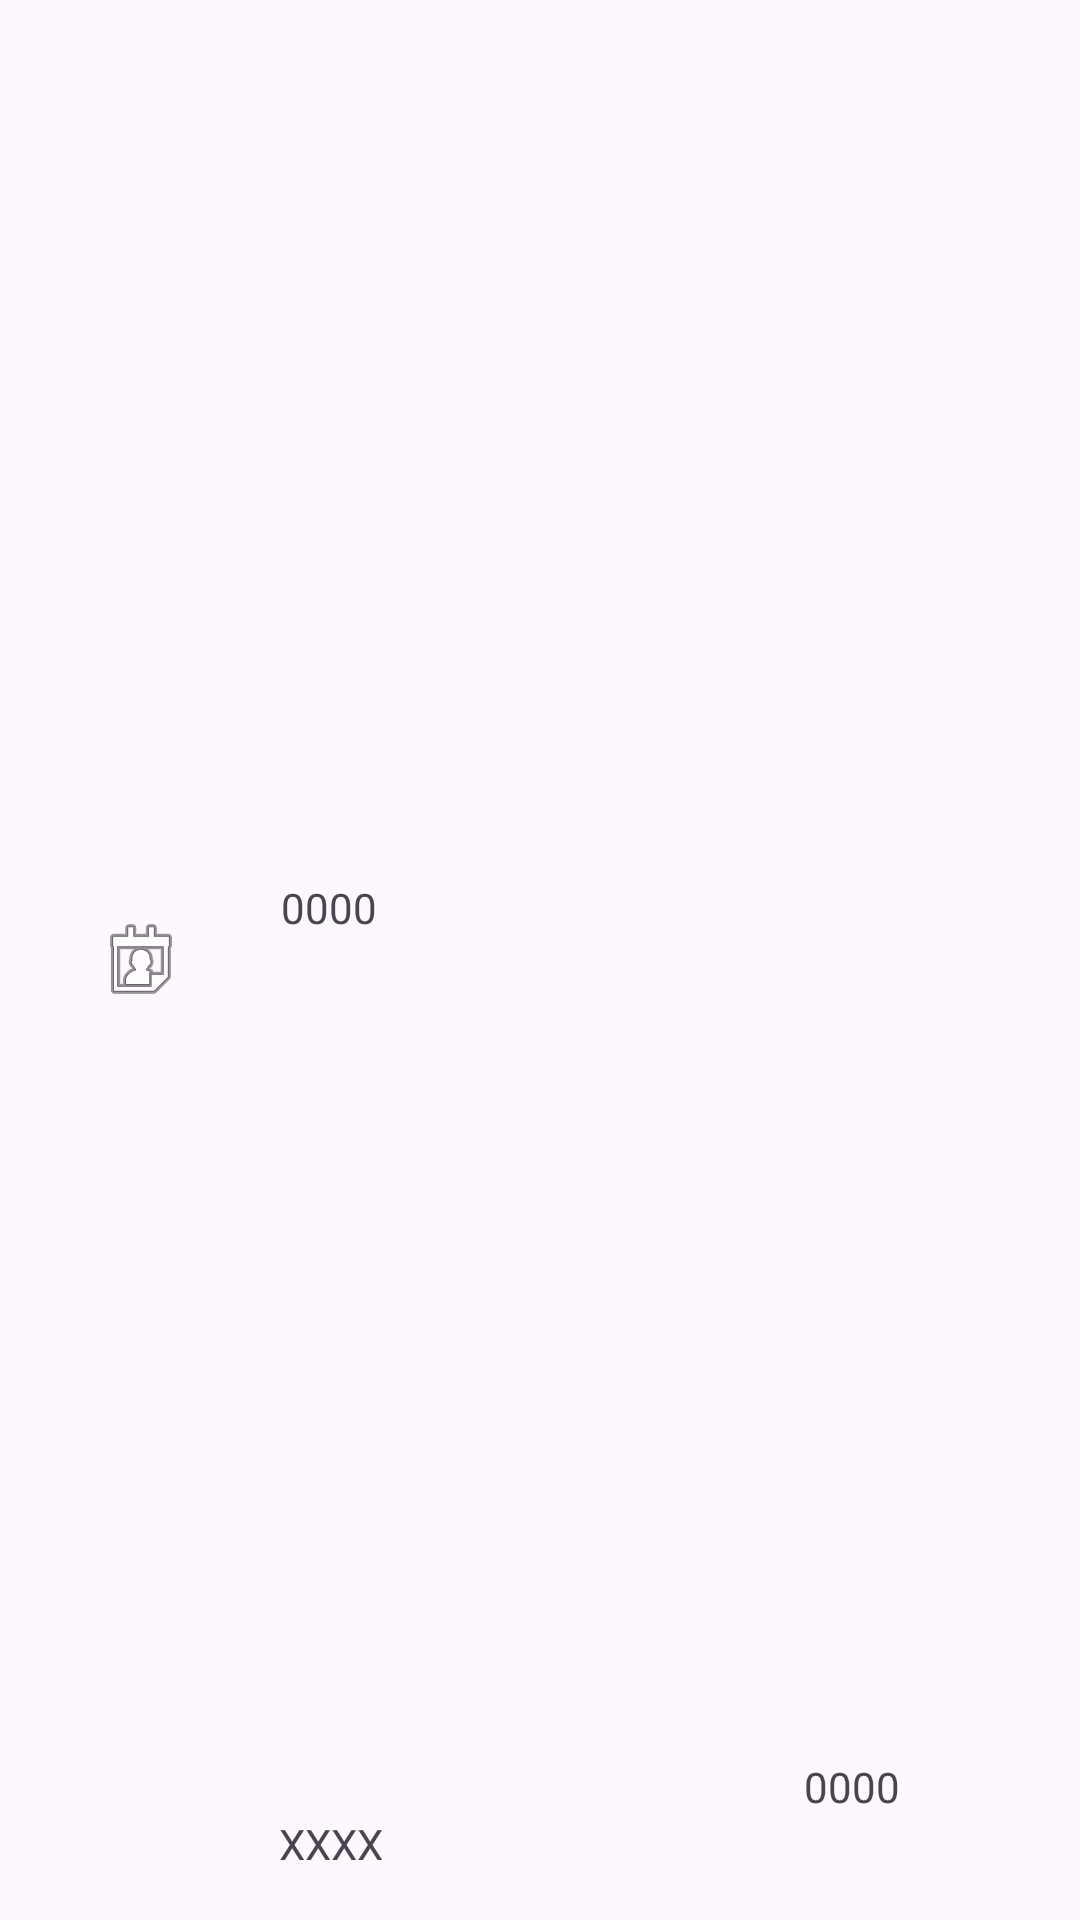

Named icons in this screenshot (1080x1920) and their bounding boxes, (x1, y1, x2, y2):
calendar: (110, 924, 172, 994)
